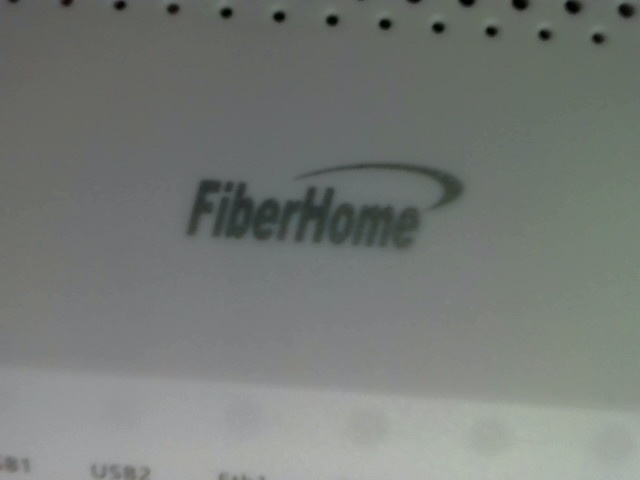AI_FiberHome: (170, 148, 474, 268)
